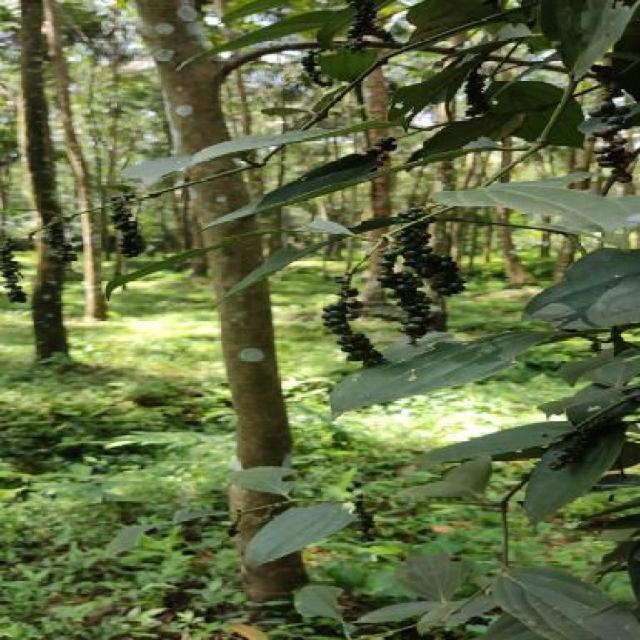UNRIPE: (381, 211, 464, 335), (325, 278, 386, 367), (546, 416, 617, 469), (594, 84, 632, 181), (111, 194, 147, 255), (348, 3, 399, 45), (49, 215, 77, 260), (6, 240, 26, 303), (356, 495, 381, 540), (300, 48, 328, 84), (467, 68, 488, 115), (365, 137, 401, 157)
